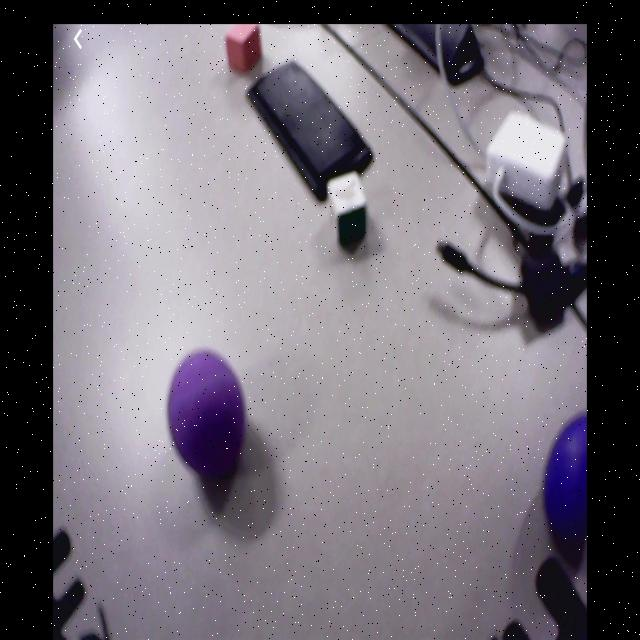ball: (168, 348, 246, 483), (544, 416, 588, 557)
